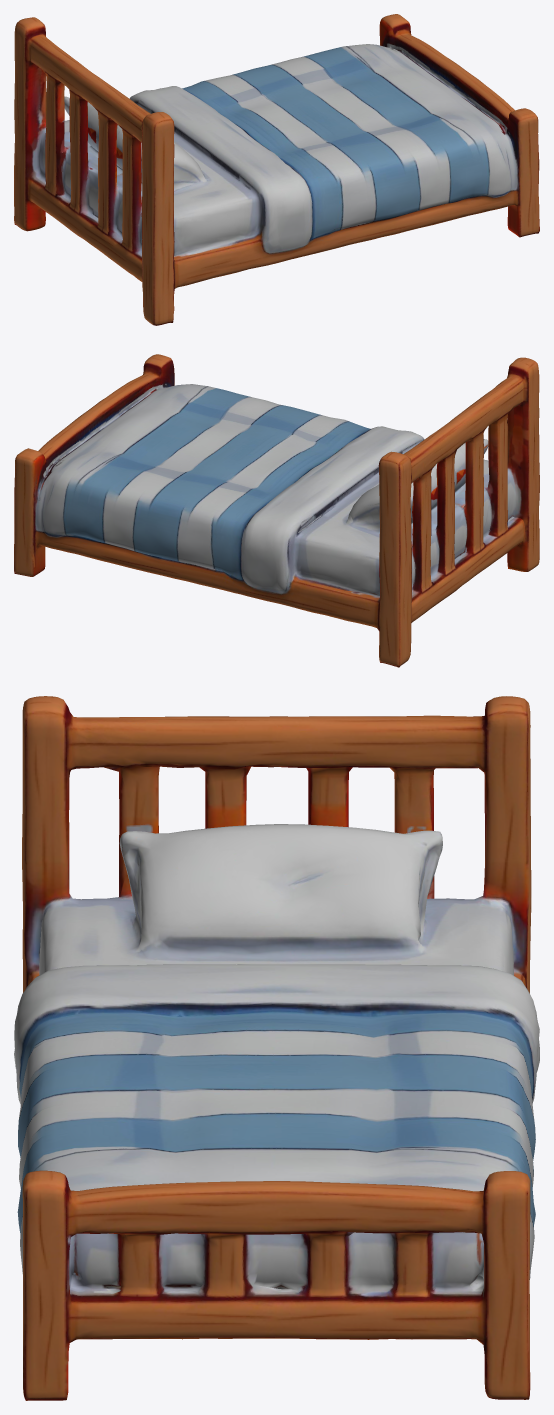
File: wooden+bed+3d+model.fbx
The picture shows the model from 3 angles, top to bottom: view 1: azimuth 30°, elevation 25°; view 2: azimuth 150°, elevation 25°; view 3: azimuth 270°, elevation 25°; orthographic projection. The views are drawn at different scales.
Parts seen in each view (by area): view 1: tripo_node_1fdaf453; view 2: tripo_node_1fdaf453; view 3: tripo_node_1fdaf453.
Boxes of the visible parts, x1,y1,x2,y2 form: tripo_node_1fdaf453: [14, 14, 539, 325]; tripo_node_1fdaf453: [14, 354, 539, 667]; tripo_node_1fdaf453: [14, 696, 539, 1400].
Bounding box in the file's own units: 0.9995 × 0.509 × 0.6528.
Materials: 1 (1 with a texture image).
